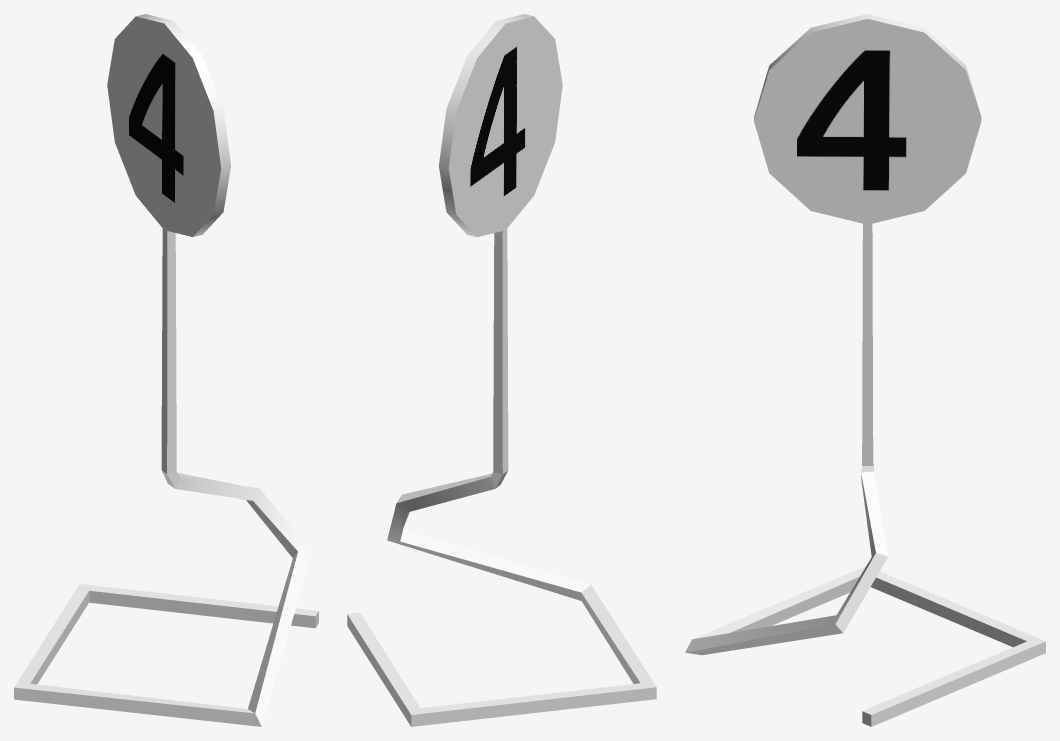
File: Marker_4.FBX
The picture shows the model from 3 angles, left to right: view 1: azimuth 30°, elevation 25°; view 2: azimuth 150°, elevation 25°; view 3: azimuth 270°, elevation 25°; orthographic projection.
Parts seen in each view (by area): view 1: Marker_4; view 2: Marker_4; view 3: Marker_4.
Part boxes in pixels (box(x1,y1,x2,y2)): Marker_4: box(14, 14, 318, 726); Marker_4: box(347, 14, 656, 726); Marker_4: box(685, 14, 1045, 726).
Size of the model in its own units: 4.03 by 8.02 by 4.11.
